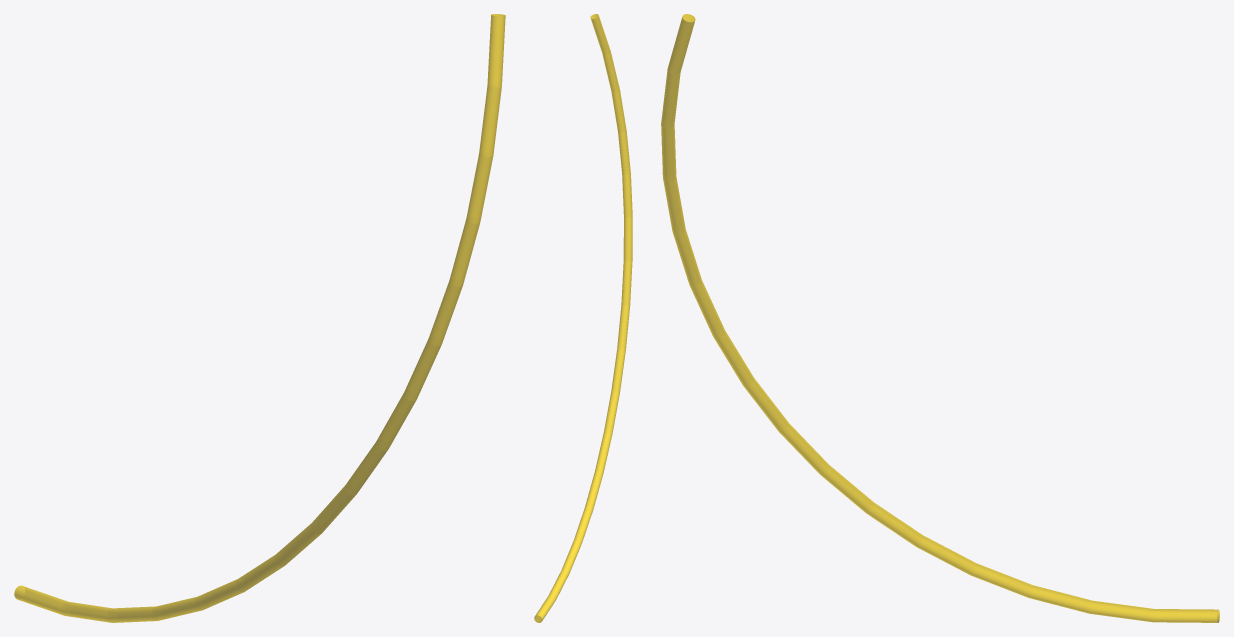
Rendered from Event_17758602_track_19.fbx.
3 renders of one model, left to right at view 1: azimuth 30°, elevation 25°; view 2: azimuth 150°, elevation 25°; view 3: azimuth 270°, elevation 25°, orthographic. The views are drawn at different scales.
Parts seen in each view (by area): view 1: Model; view 2: Model; view 3: Model.
Part boxes in pixels (left/top/right/bottom): Model: left=14, top=14, right=505, bottom=622; Model: left=534, top=14, right=632, bottom=622; Model: left=661, top=14, right=1219, bottom=622.
Size of the model in its own units: 0.6483 by 2.26 by 1.65.
